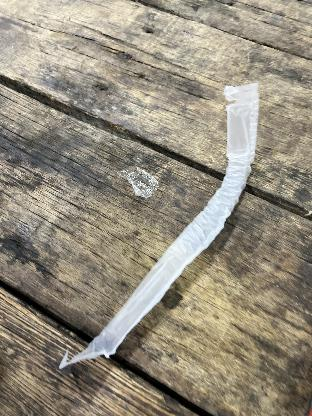Others: (55, 81, 258, 371)
